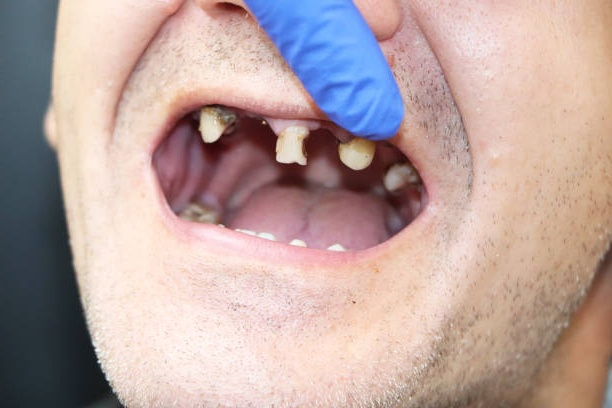Caries: (292, 116, 320, 164), (207, 106, 239, 135)
